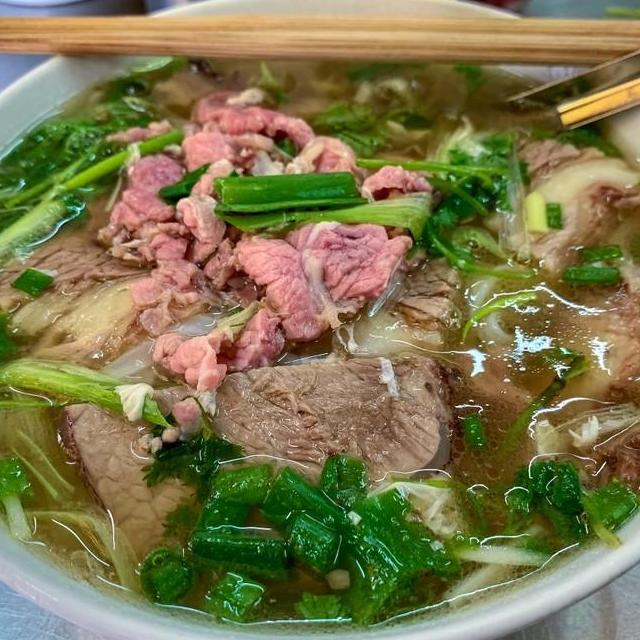thit bo: (54, 345, 446, 573), (84, 142, 244, 449), (220, 210, 416, 370), (471, 128, 640, 297), (518, 259, 640, 427), (0, 205, 161, 312), (182, 83, 316, 149), (392, 243, 466, 335), (358, 156, 443, 223)
